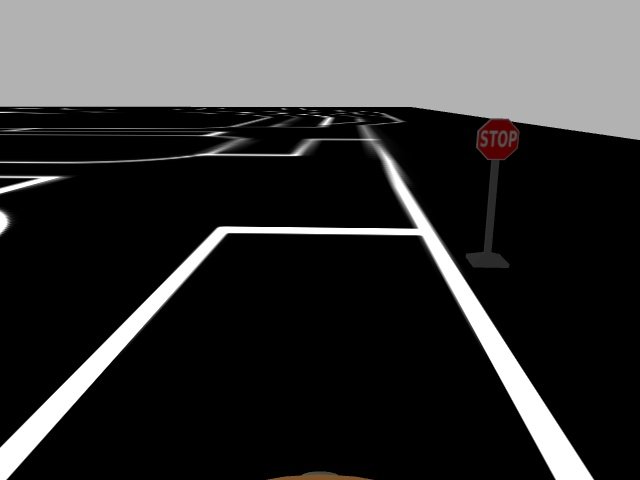stop: (471, 116, 524, 161)
